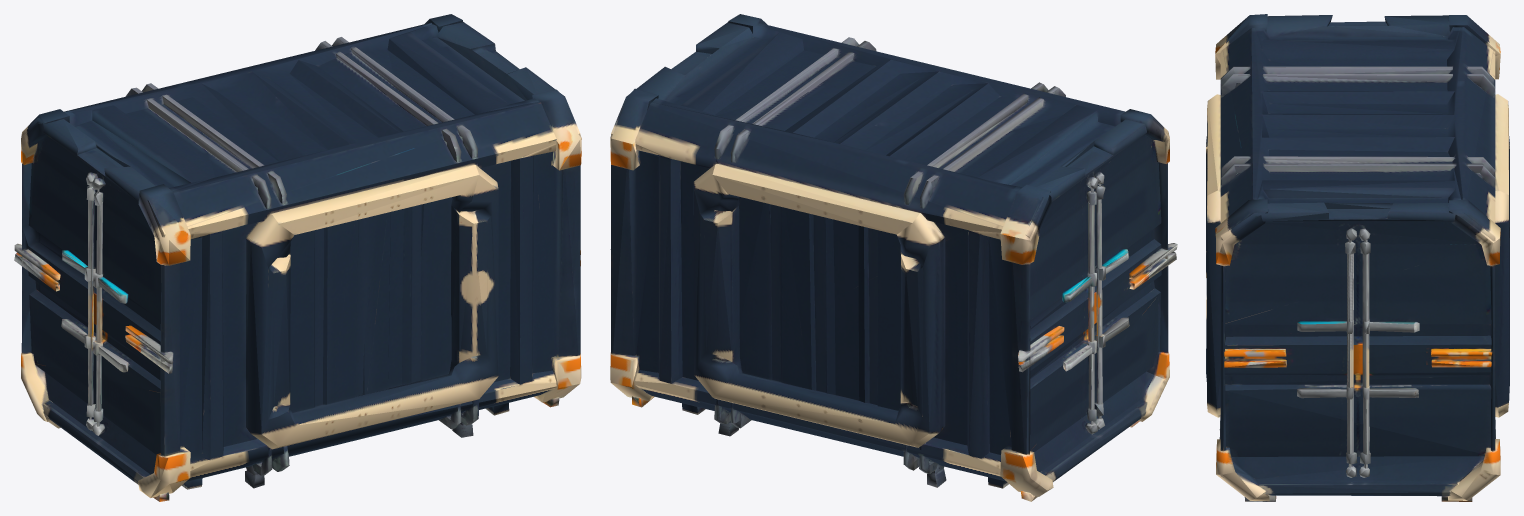
File: crates.glb
3 renders of one model, left to right at view 1: azimuth 30°, elevation 25°; view 2: azimuth 150°, elevation 25°; view 3: azimuth 270°, elevation 25°, orthographic. The views are drawn at different scales.
Bounding box in the file's own units: 1 × 0.709 × 0.6465.
Materials: 1 (1 with a texture image).
